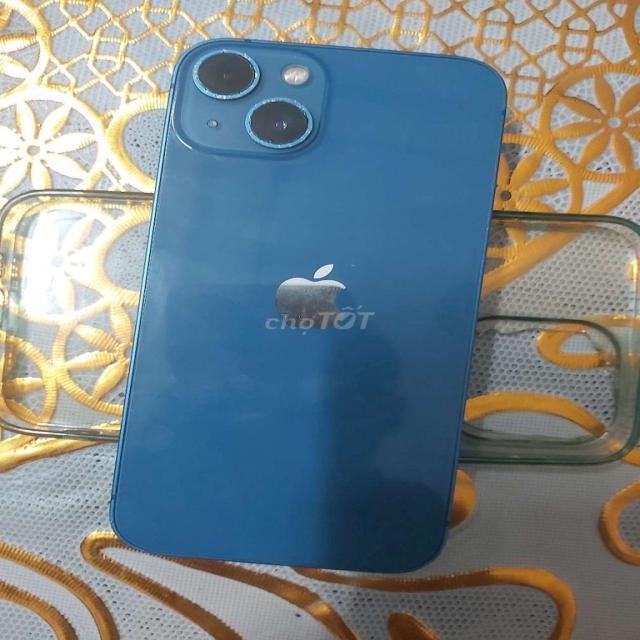gen_12_13: (107, 35, 513, 572)
